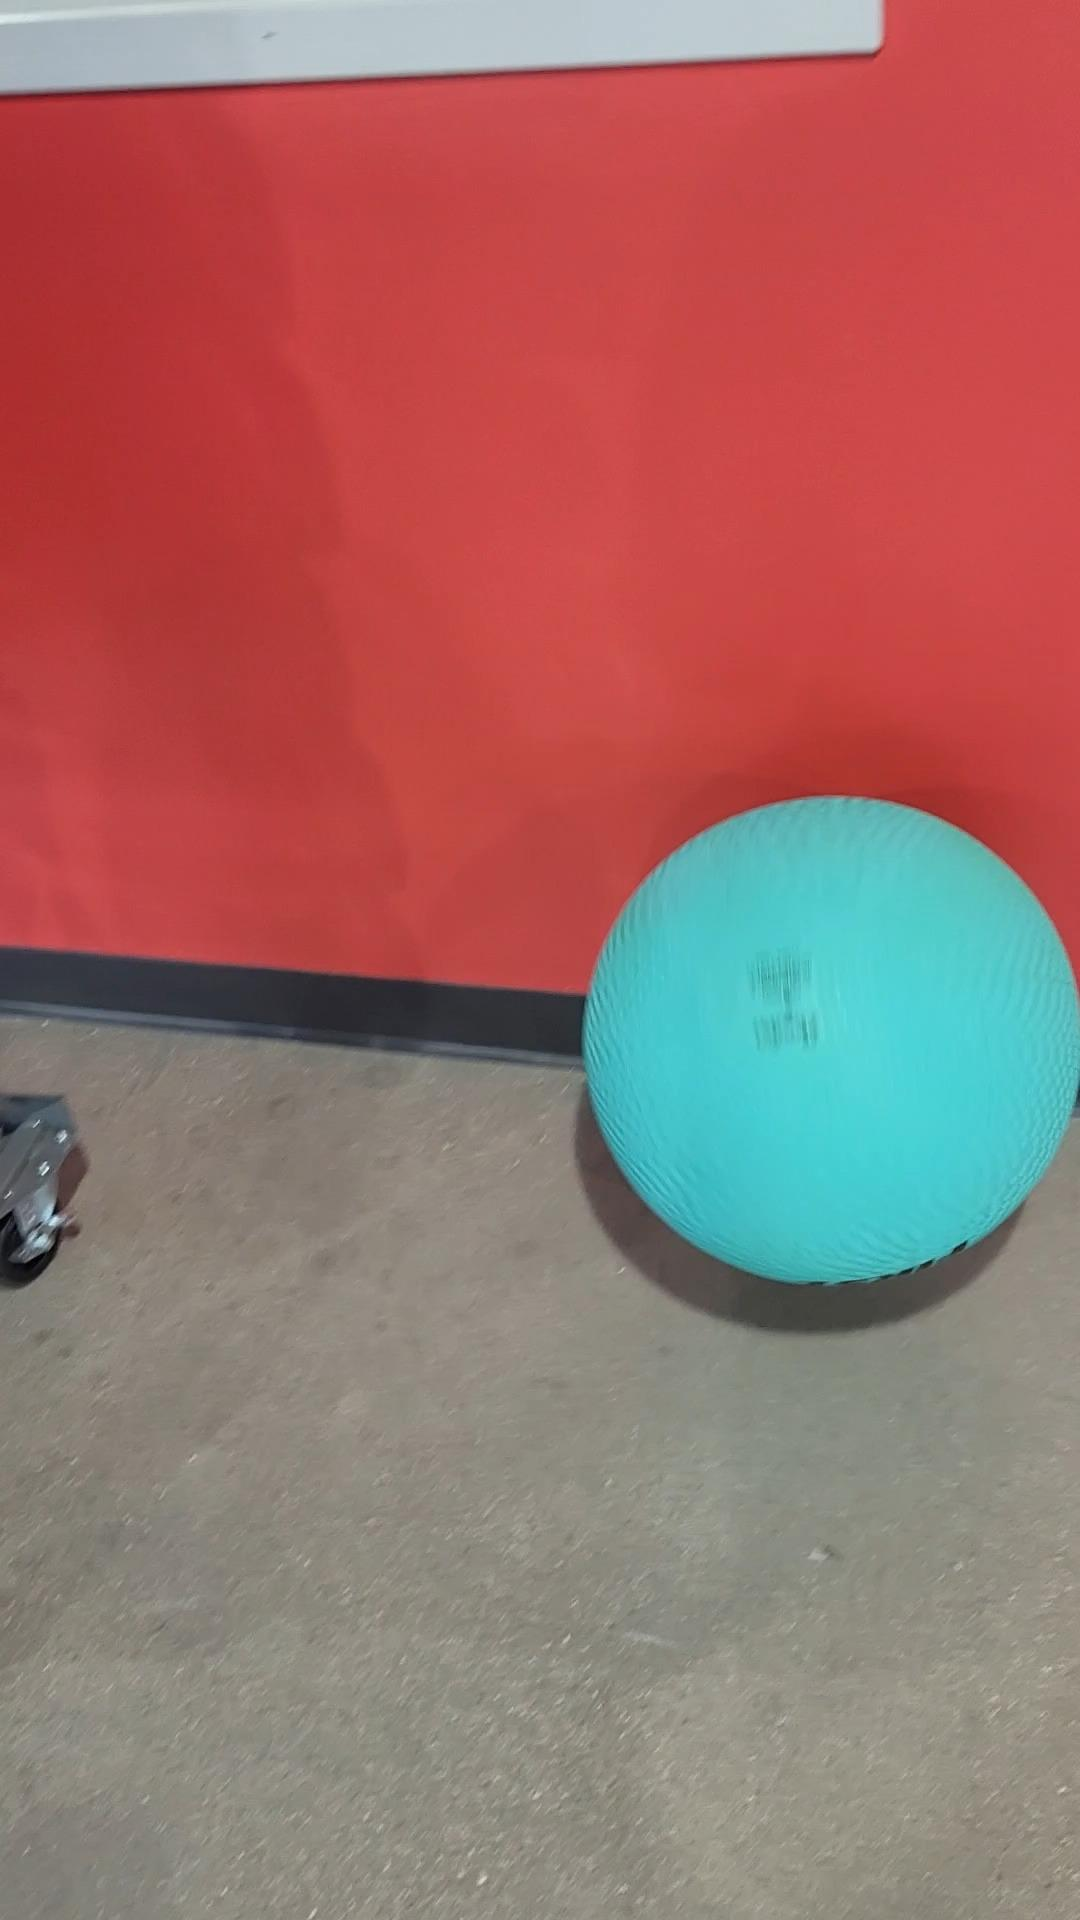algae: (601, 791, 1071, 1284)
